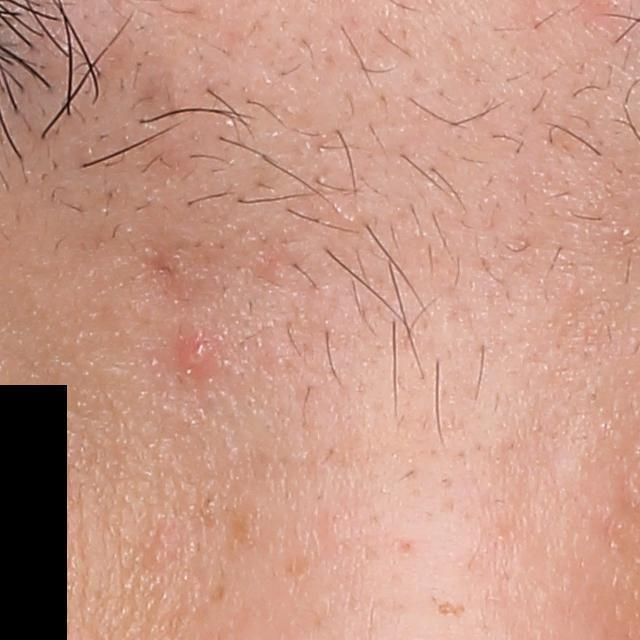melasma: (436, 599, 466, 622), (207, 582, 228, 603)
